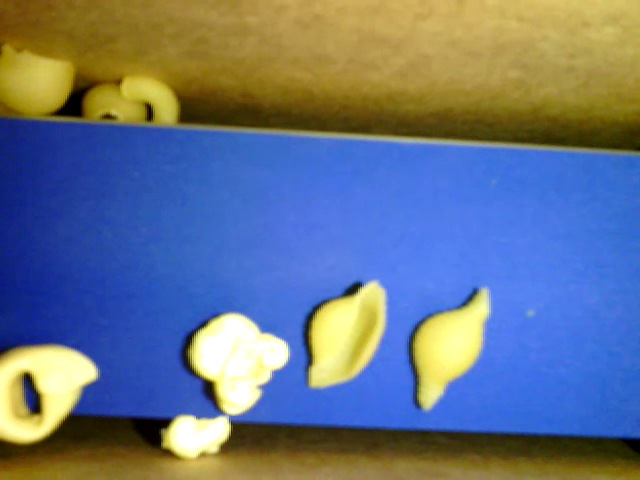elbow: (119, 75, 183, 125)
shell: (410, 287, 490, 413), (304, 281, 387, 388), (1, 43, 78, 118), (82, 78, 148, 125)
tortellini: (1, 344, 100, 445)
